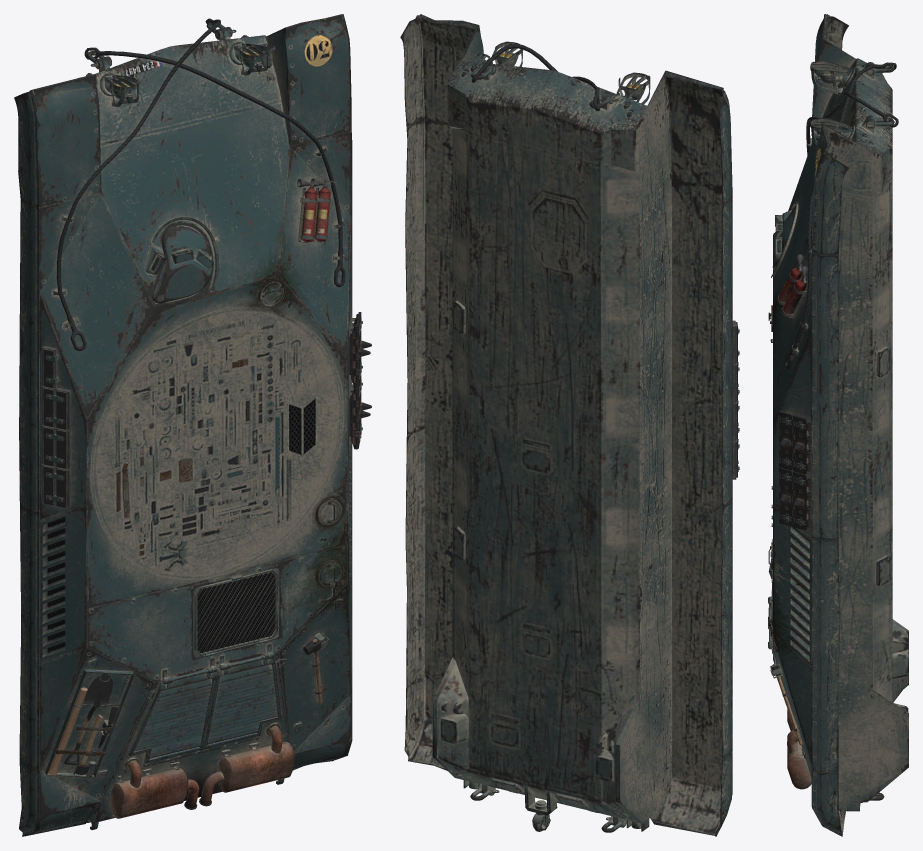
Rendered from Hull.glb.
3 renders of one model, left to right at view 1: azimuth 30°, elevation 25°; view 2: azimuth 150°, elevation 25°; view 3: azimuth 270°, elevation 25°, orthographic. The views are drawn at different scales.
Visible parts, largest first — view 1: set_0_group_0; view 2: set_0_group_0; view 3: set_0_group_0.
Part boxes in pixels (<box>): set_0_group_0: <box>14,14,371,836</box>; set_0_group_0: <box>400,14,739,836</box>; set_0_group_0: <box>768,14,908,836</box>.
Bounding box in the file's own units: 3.24 × 7.3 × 1.32.
1 material, 1 textured.
